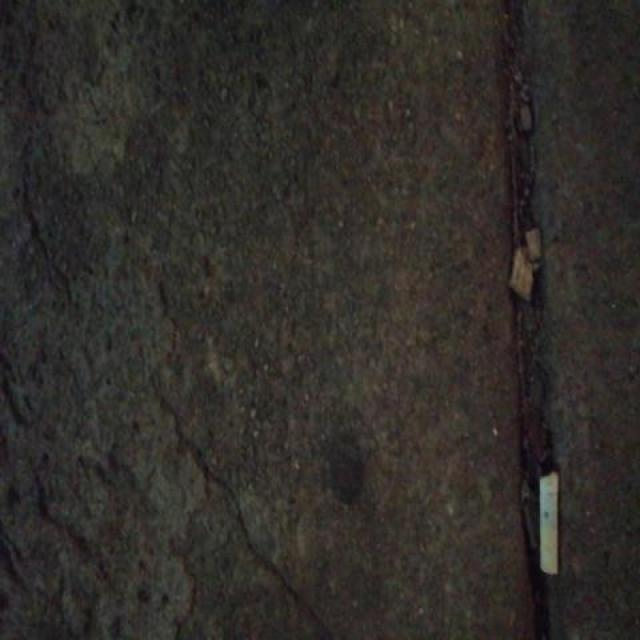non-organic waste: (534, 464, 566, 581)
